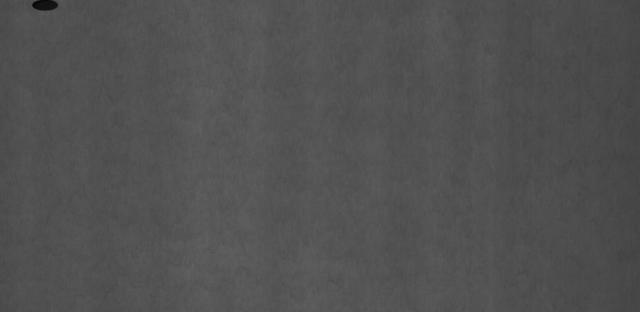punching_hole: (29, 0, 61, 13)
